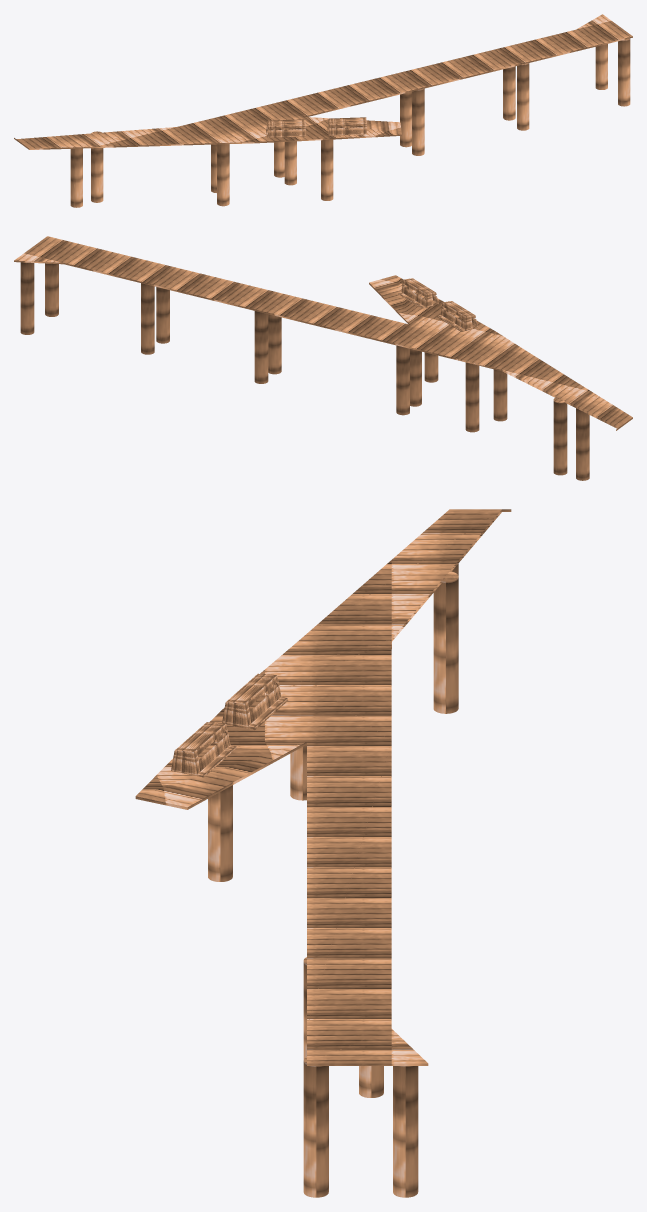
File: Strandpark.glb
The picture shows the model from 3 angles, top to bottom: view 1: azimuth 30°, elevation 25°; view 2: azimuth 150°, elevation 25°; view 3: azimuth 270°, elevation 25°; orthographic projection. The views are drawn at different scales.
Parts seen in each view (by area): view 1: Cube, Cylinder.001, Cylinder.002, Cylinder.005, Cylinder.009, Cylinder.010, Cylinder.011, Cylinder.012, Cube.002, Cube.001, Cylinder.003, Cylinder.004 (+4 smaller); view 2: Cube, Cylinder.012, Cylinder, Cylinder.004, Cylinder.008, Cylinder.003, Cylinder.011, Cylinder.006, Cylinder.005, Cylinder.002, Cube.002, Cylinder.009 (+4 smaller); view 3: Cube, Cylinder.012, Cylinder.001, Cylinder, Cube.002, Cylinder.010, Cube.001.
Part boxes in pixels (bbox=[...]): Cube: bbox=[14, 14, 632, 149]; Cylinder.001: bbox=[618, 38, 630, 106]; Cylinder.002: bbox=[517, 63, 529, 130]; Cylinder.005: bbox=[412, 88, 424, 155]; Cylinder.009: bbox=[217, 144, 229, 206]; Cylinder.010: bbox=[321, 139, 333, 200]; Cylinder.011: bbox=[70, 148, 82, 207]; Cylinder.012: bbox=[91, 131, 103, 202]; Cube.002: bbox=[266, 119, 305, 138]; Cube.001: bbox=[327, 117, 366, 135]; Cylinder.003: bbox=[503, 66, 515, 120]; Cylinder.004: bbox=[400, 91, 411, 147]; Cube: bbox=[14, 236, 632, 430]; Cylinder.012: bbox=[553, 397, 567, 475]; Cylinder: bbox=[20, 262, 34, 334]; Cylinder.004: bbox=[254, 311, 268, 383]; Cylinder.008: bbox=[465, 362, 479, 432]; Cylinder.003: bbox=[141, 283, 154, 354]; Cylinder.011: bbox=[576, 408, 589, 480]; Cylinder.006: bbox=[396, 345, 409, 415]; Cylinder.005: bbox=[268, 314, 281, 374]; Cylinder.002: bbox=[156, 287, 169, 343]; Cube.002: bbox=[437, 301, 477, 331]; Cylinder.009: bbox=[493, 369, 507, 421]; Cube: bbox=[135, 509, 511, 1065]; Cylinder.012: bbox=[433, 571, 458, 713]; Cylinder.001: bbox=[303, 1057, 328, 1197]; Cylinder: bbox=[393, 1066, 418, 1197]; Cube.002: bbox=[222, 673, 288, 729]; Cylinder.010: bbox=[208, 785, 232, 881]; Cube.001: bbox=[171, 722, 236, 777].
Bounding box in the file's own units: 157 × 21.39 × 45.03.
Materials: 3 (3 with a texture image).
